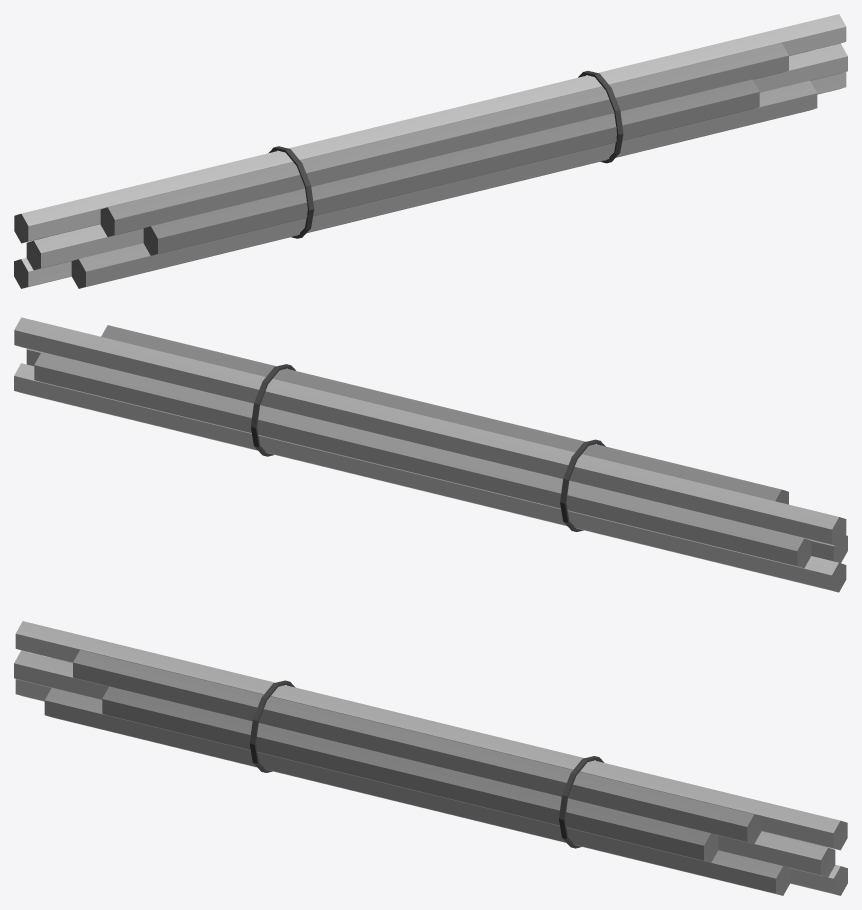
The model's file is SM_Int_MetalRods.fbx.
3 renders of one model, top to bottom at view 1: azimuth 30°, elevation 25°; view 2: azimuth 150°, elevation 25°; view 3: azimuth 330°, elevation 25°, orthographic.
Visible parts, largest first — view 1: SM_Int_MetalRods; view 2: SM_Int_MetalRods; view 3: SM_Int_MetalRods.
Part boxes in pixels (box(x1,y1,x2,y2)): SM_Int_MetalRods: box(14, 14, 847, 288); SM_Int_MetalRods: box(14, 317, 847, 592); SM_Int_MetalRods: box(14, 621, 847, 895).
Size of the model in its own units: 1 by 0.1 by 0.1.
Materials: 1 (1 with a texture image).
